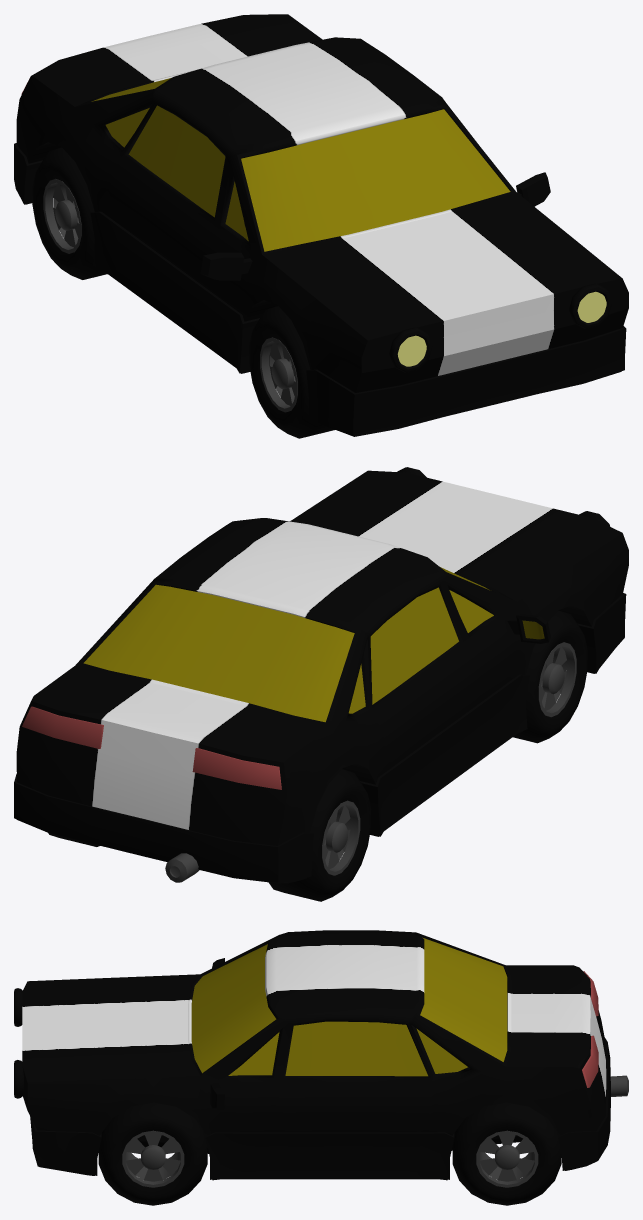
The model's file is Muscle Evolution1 Black LineWhiteBlack DarkYellow DarkGrey.gltf.
3 renders of one model, top to bottom at view 1: azimuth 30°, elevation 25°; view 2: azimuth 150°, elevation 25°; view 3: azimuth 270°, elevation 25°, orthographic. The views are drawn at different scales.
Parts seen in each view (by area): view 1: evo1_body4_f1_dupl, evo1_sill0_f1_dupl, evo1_frontGlass_f1_dupl, evo1_glasseBigR_f1_dupl, evo1_tire_rf_f1_dupl, evo1_tire_rf1_f1_dupl, evo1_rim_A_rb_f1_dupl, evo1_rim_A_rf_f1_dupl, evo1_mirorR3_f1_dupl, evo1_blockLightR_f1_dupl, evo1_blockLightL_f1_dupl, evo1_mirorL3_f1_dupl (+4 smaller); view 2: evo1_body4_f1_dupl, evo1_sill0_f1_dupl, evo1_BackGlassGlass_f1_dupl, evo1_glasseBigR_f1_dupl, evo1_tire_rf_f1_dupl, evo1_tire_rf1_f1_dupl, evo1_rim_A_rf_f1_dupl, evo1_rim_A_rb_f1_dupl, evo1_redlightR2_f1_dupl, evo1_redlightL2_f1_dupl, evo1_glassfR_f1_dupl, evo1_pipe1_f1_dupl (+1 smaller); view 3: evo1_body4_f1_dupl, evo1_sill0_f1_dupl, evo1_BackGlassGlass_f1_dupl, evo1_glasseBigL_f1_dupl, evo1_frontGlass_f1_dupl, evo1_tire_lb_f1_dupl, evo1_tire_lf_f1_dupl, evo1_rim_A_lf_f1_dupl, evo1_rim_A_lb_f1_dupl, evo1_glassfL_f1_dupl, evo1_glassbL_f1_dupl, evo1_GroundBody_f1_dupl (+1 smaller).
Boxes of the visible parts, box(x1,y1,x2,y2) form: evo1_body4_f1_dupl: box(16, 14, 628, 392); evo1_sill0_f1_dupl: box(14, 143, 626, 436); evo1_frontGlass_f1_dupl: box(241, 109, 510, 251); evo1_glasseBigR_f1_dupl: box(128, 105, 225, 217); evo1_tire_rf_f1_dupl: box(32, 147, 107, 279); evo1_tire_rf1_f1_dupl: box(249, 306, 334, 438); evo1_rim_A_rb_f1_dupl: box(43, 179, 81, 253); evo1_rim_A_rf_f1_dupl: box(260, 337, 297, 412); evo1_mirorR3_f1_dupl: box(200, 252, 252, 280); evo1_blockLightR_f1_dupl: box(389, 327, 432, 372); evo1_blockLightL_f1_dupl: box(569, 283, 612, 328); evo1_mirorL3_f1_dupl: box(516, 172, 550, 206); evo1_body4_f1_dupl: box(16, 470, 628, 845); evo1_sill0_f1_dupl: box(14, 593, 626, 882); evo1_BackGlassGlass_f1_dupl: box(83, 584, 354, 722); evo1_glasseBigR_f1_dupl: box(370, 587, 458, 704); evo1_tire_rf_f1_dupl: box(268, 769, 371, 901); evo1_tire_rf1_f1_dupl: box(513, 610, 587, 743); evo1_rim_A_rf_f1_dupl: box(538, 642, 576, 717); evo1_rim_A_rb_f1_dupl: box(322, 800, 360, 875); evo1_redlightR2_f1_dupl: box(192, 748, 281, 789); evo1_redlightL2_f1_dupl: box(22, 706, 103, 748); evo1_glassfR_f1_dupl: box(449, 590, 493, 632); evo1_pipe1_f1_dupl: box(165, 853, 199, 882); evo1_body4_f1_dupl: box(22, 930, 606, 1152); evo1_sill0_f1_dupl: box(30, 1037, 610, 1179); evo1_BackGlassGlass_f1_dupl: box(420, 937, 507, 1061); evo1_glasseBigL_f1_dupl: box(285, 1021, 427, 1076); evo1_frontGlass_f1_dupl: box(191, 944, 276, 1073); evo1_tire_lb_f1_dupl: box(452, 1102, 561, 1205); evo1_tire_lf_f1_dupl: box(98, 1102, 207, 1205); evo1_rim_A_lf_f1_dupl: box(122, 1130, 184, 1187); evo1_rim_A_lb_f1_dupl: box(476, 1130, 538, 1187); evo1_glassfL_f1_dupl: box(228, 1032, 279, 1075); evo1_glassbL_f1_dupl: box(416, 1028, 467, 1073); evo1_GroundBody_f1_dupl: box(40, 1140, 594, 1180).
Size of the model in its own units: 177 by 112 by 331.
Materials: 7 (1 with a texture image).
